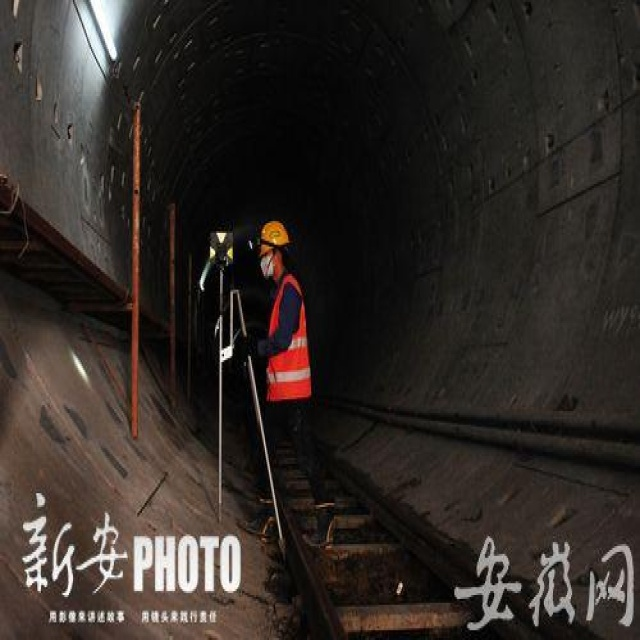Helmet: (251, 214, 302, 288)
Reflective vest: (254, 269, 323, 406)
